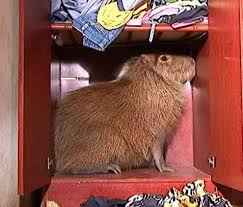capivara: (49, 53, 196, 175)
